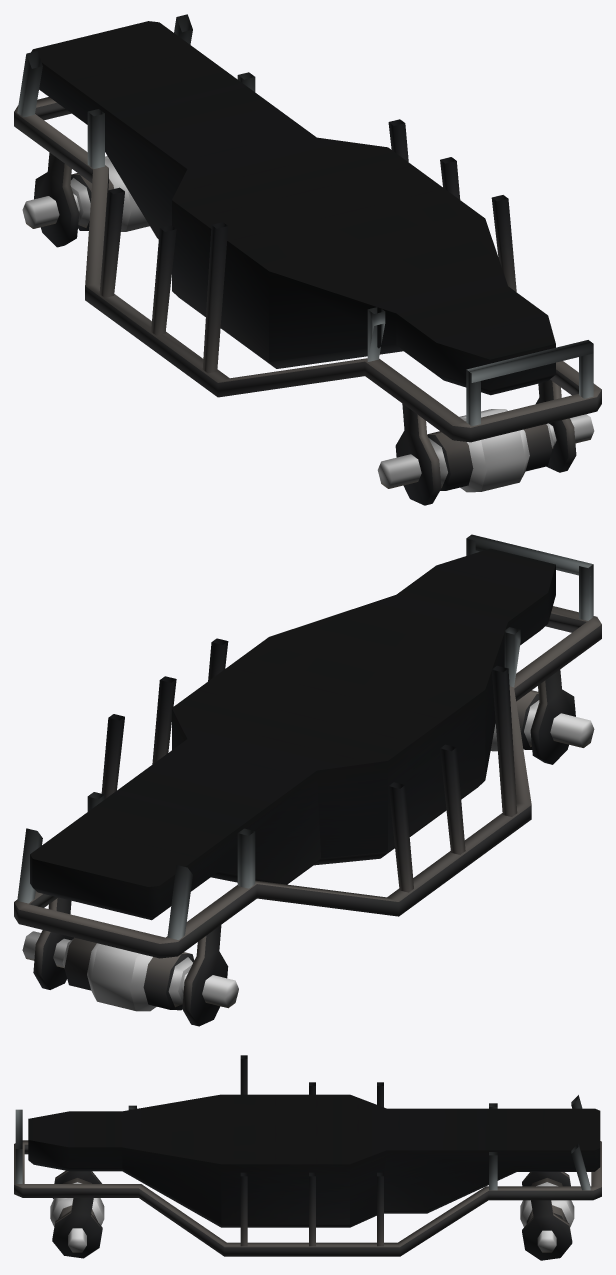
Rendered from F1_FRAME.fbx.
3 renders of one model, top to bottom at view 1: azimuth 30°, elevation 25°; view 2: azimuth 150°, elevation 25°; view 3: azimuth 270°, elevation 25°, orthographic. The views are drawn at different scales.
Parts seen in each view (by area): view 1: F1_Frame; view 2: F1_Frame; view 3: F1_Frame.
Boxes of the visible parts, left/top/right/bottom form: F1_Frame: left=14, top=14, right=601, bottom=505; F1_Frame: left=14, top=534, right=601, bottom=1026; F1_Frame: left=14, top=1055, right=601, bottom=1260.
Size of the model in its own units: 2425 by 1507 by 5950.
